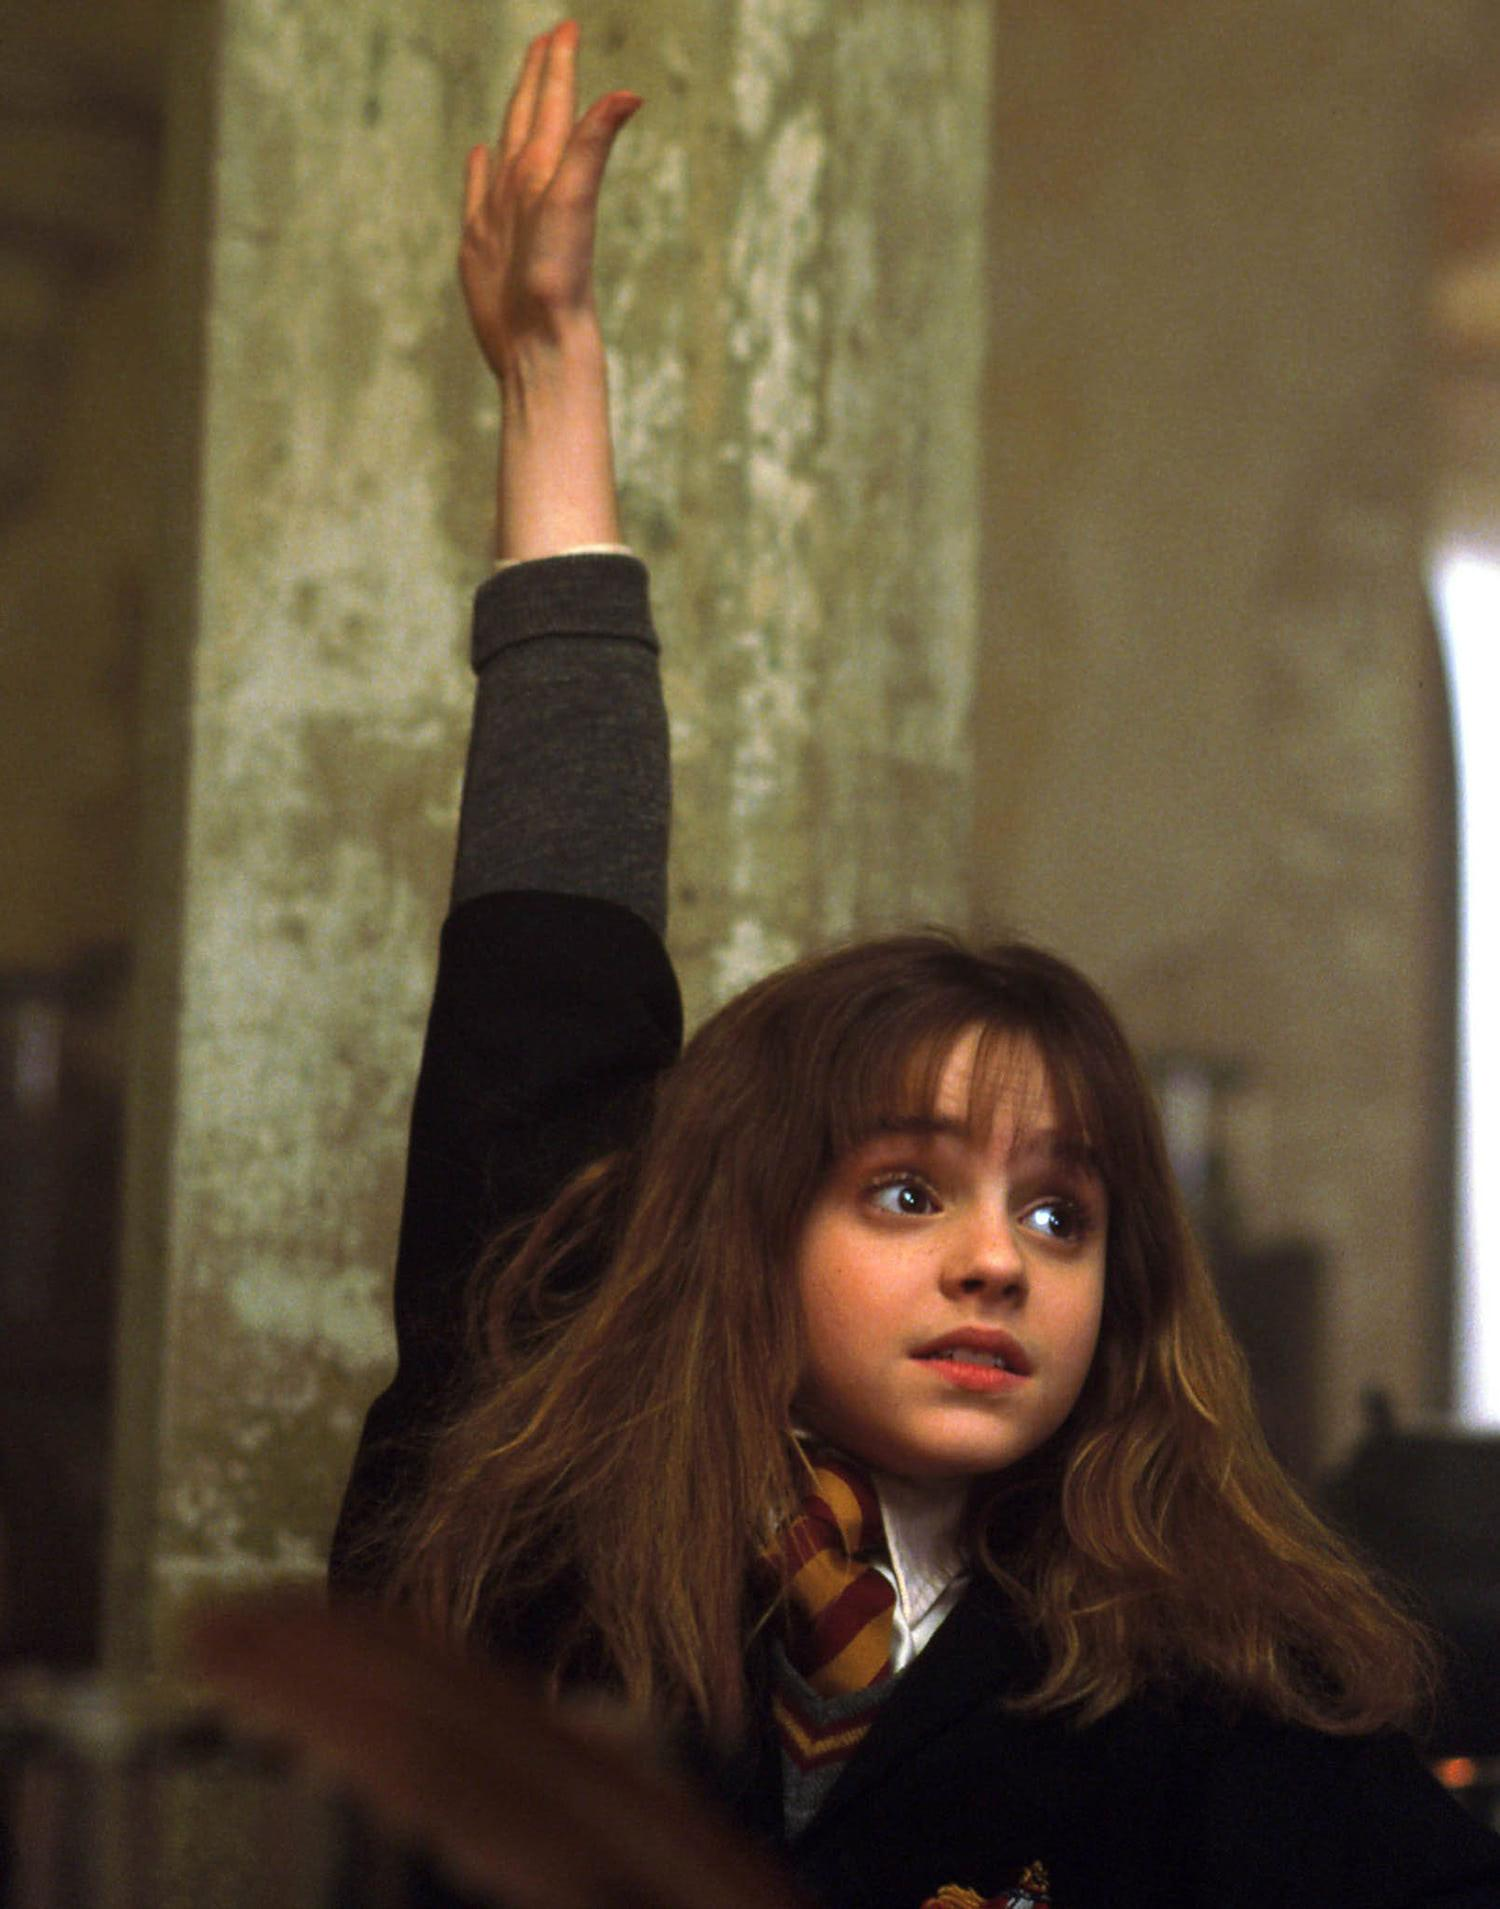hands: (454, 0, 635, 377)
